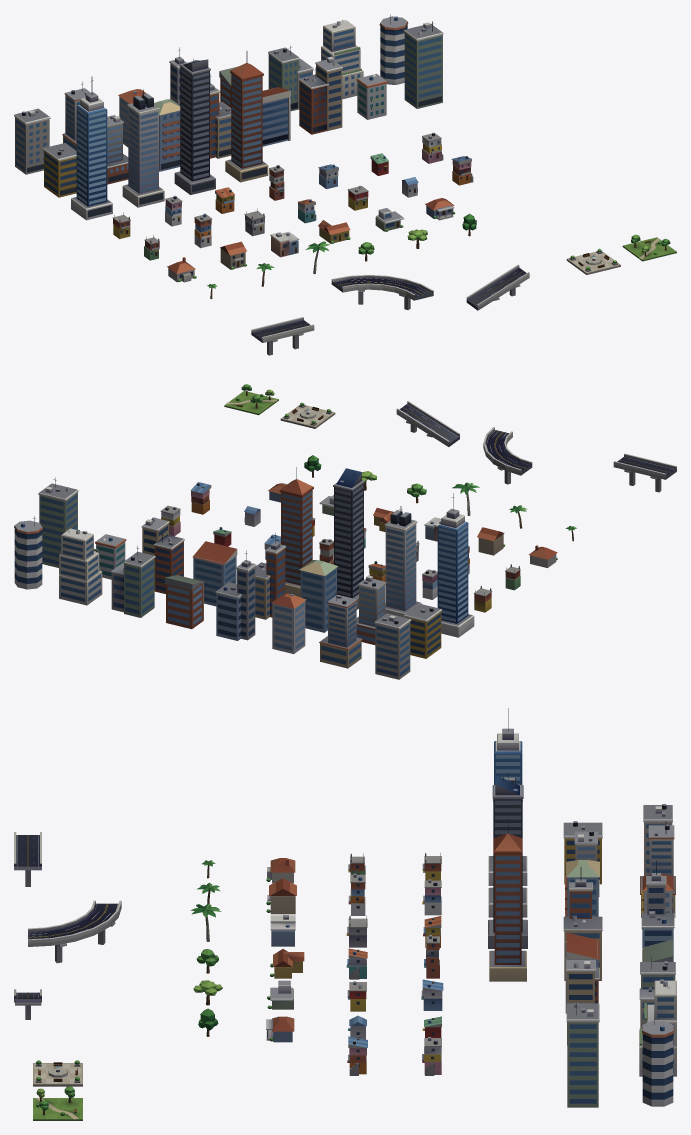
File: ccs_city.glb
The picture shows the model from 3 angles, top to bottom: view 1: azimuth 30°, elevation 25°; view 2: azimuth 150°, elevation 25°; view 3: azimuth 270°, elevation 25°; orthographic projection. The views are drawn at different scales.
Visible parts, largest first — view 1: torre_03, torre_01, torre_04, torre_02, edif_16, edif_14, edif_07, edif_01, autopista_curva, edif_08, edif_06, edif_09 (+20 smaller); view 2: torre_01, torre_03, torre_02, torre_04, edif_07, edif_04, edif_06, edif_16, edif_02, edif_01, edif_11, edif_14 (+17 smaller); view 3: torre_04, edif_16, edif_08, autopista_curva, torre_03, edif_12, edif_04, torre_01, edif_07, edif_02, edif_14, parque_pieza (+20 smaller).
Part boxes in pixels (box(x1,y1,x2,y2)): torre_03: box(174, 59, 215, 194); torre_01: box(71, 76, 112, 220); torre_04: box(225, 51, 268, 182); torre_02: box(122, 89, 164, 207); edif_16: box(403, 21, 443, 108); edif_14: box(298, 56, 342, 134); edif_07: box(321, 19, 363, 99); edif_01: box(14, 108, 50, 174); autopista_curva: box(331, 275, 433, 309); edif_08: box(379, 14, 408, 84); edif_06: box(268, 45, 313, 111); edif_09: box(43, 143, 76, 197); torre_01: box(437, 493, 474, 637); torre_03: box(333, 468, 364, 609); torre_02: box(384, 506, 421, 617); torre_04: box(279, 467, 313, 597); edif_07: box(59, 528, 102, 605); edif_04: box(215, 550, 256, 640); edif_06: box(111, 546, 155, 617); edif_16: box(38, 477, 78, 567); edif_02: box(319, 591, 362, 668); edif_01: box(374, 613, 411, 679); edif_11: box(299, 560, 338, 632); edif_14: box(141, 517, 184, 593); torre_04: box(489, 819, 526, 981); edif_16: box(566, 1002, 599, 1107); edif_08: box(642, 1012, 674, 1106); autopista_curva: box(28, 900, 121, 963); torre_03: box(488, 775, 527, 948); edif_12: box(563, 867, 602, 980); edif_04: box(641, 860, 674, 961); torre_01: box(488, 708, 527, 885); edif_07: box(639, 979, 676, 1076); edif_02: box(640, 821, 675, 917); edif_14: box(566, 960, 599, 1045); parque_pieza: box(33, 1086, 82, 1120).
Bounding box in the file's own units: 196 × 60.9 × 212.
